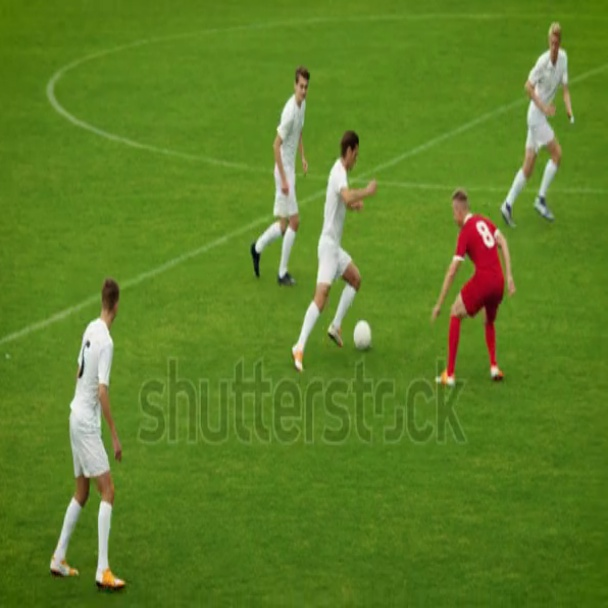ball: (356, 318, 372, 353)
